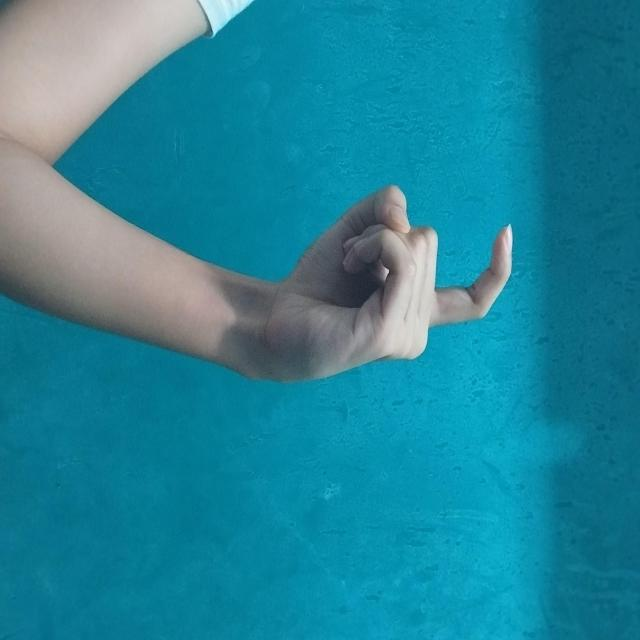X: (185, 125, 386, 391)
